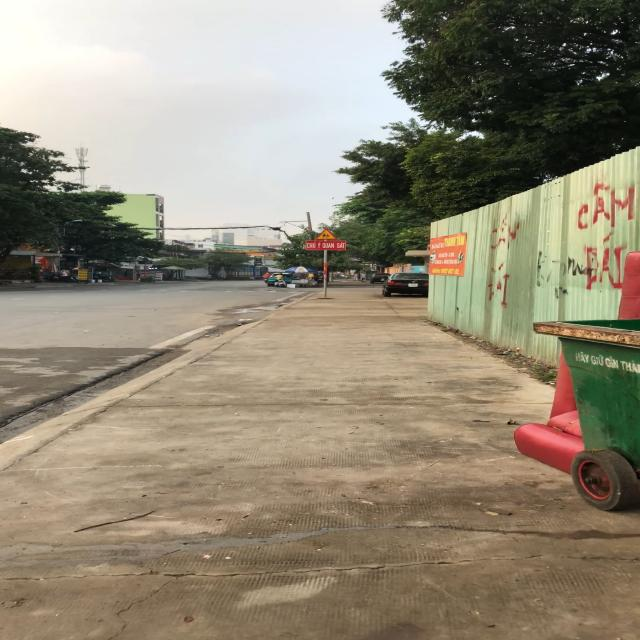Bien bao tre em: (312, 227, 340, 240)
